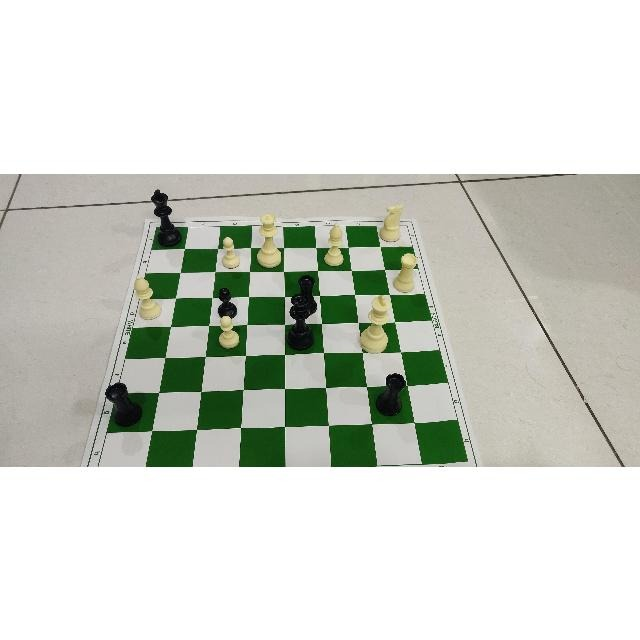black-king: (146, 187, 184, 247)
black-pawn: (216, 285, 240, 319)
black-queen: (286, 292, 316, 350)
black-rook: (102, 381, 144, 426), (374, 369, 406, 419), (294, 271, 320, 313)
white-bishop: (134, 274, 162, 318), (324, 222, 344, 267)
white-king: (357, 294, 392, 354)
white-knight: (377, 200, 405, 241)
white-pawn: (217, 234, 243, 269), (215, 315, 241, 349)
white-queen: (256, 211, 282, 269)
white-rook: (390, 251, 419, 293)
